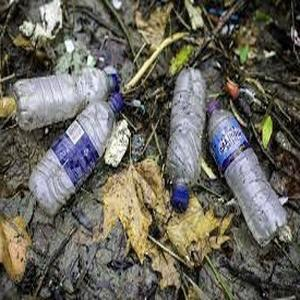Plastic: (33, 95, 122, 222), (209, 100, 285, 244), (11, 62, 116, 130), (162, 69, 207, 213)
